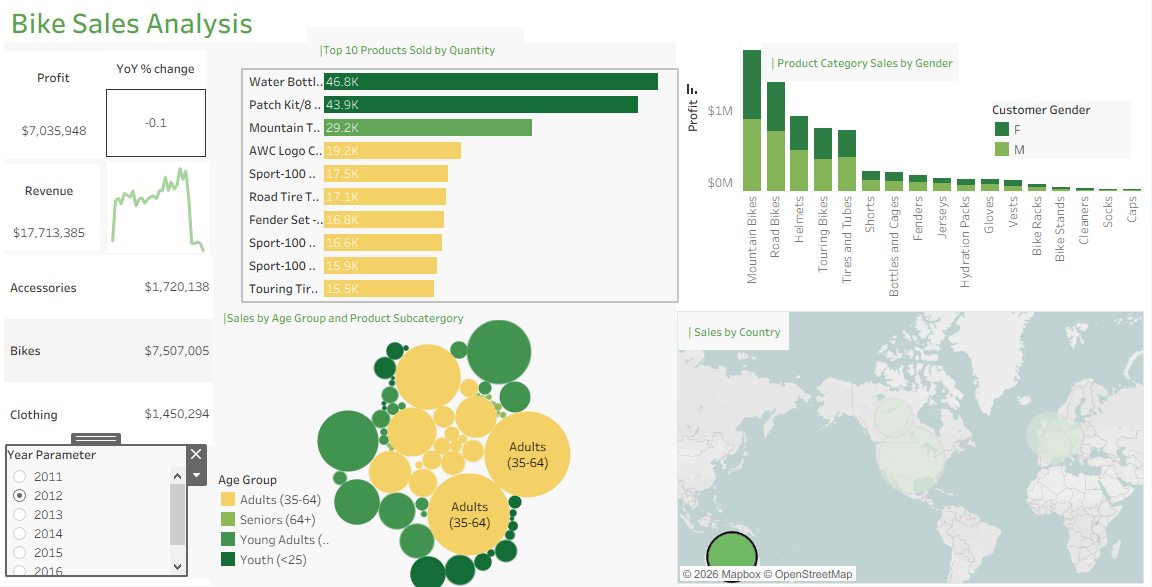

The page's visual inventory and layout, read from the dashboard file:
{"tool":"tableau","page":{"name":"Sales Dashboard","canvas":[1000,1000],"units":"permille","ordinal":0},"visuals":[{"type":"title","box":[6.8,13.5,986.5,67.6]},{"type":"text","box":[269,55.7,188,74.3]},{"type":"worksheet","title":"Sub Catergory Bar Chart","mark":"Automatic","rows":["Profit"],"cols":["Sub_Category"],"box":[589.4,82.8,405.6,452.7]},{"type":"text","box":[662.7,82.8,171.2,64.2]},{"type":"worksheet","title":"YoY % change","mark":"Automatic","cols":["Calculation_0370315922681864"],"box":[93.6,94.6,89.4,182.4]},{"type":"worksheet","title":"Profit Card","mark":"Automatic","cols":["Calculation_0370315913228289"],"box":[5.1,96.3,89.4,182.4]},{"type":"worksheet","title":"Top 10 products","mark":"Bar","rows":["Product"],"box":[214.2,128.4,375.2,390.2]},{"type":"legend","title":"Sub Catergory Bar Chart","param":"[federated.0qvkxsk0t6w82s10mxbsq1fiwlk5].[none:Customer_Gender:nk]","box":[862.6,180.7,120.6,98]},{"type":"worksheet","title":"Revenue line chart","mark":"Automatic","rows":["Revenue"],"cols":["Date"],"box":[95.3,283.8,89.4,153.7]},{"type":"worksheet","title":"Revenue card","mark":"Automatic","cols":["Calculation_0370315970215945"],"box":[1.7,287.2,88.6,145.3]},{"type":"worksheet","title":"Cost cards","mark":"Automatic","rows":["Product_Category"],"box":[6.8,440.9,181.3,322.6]},{"type":"text","box":[188,513.5,220.9,64.2]},{"type":"worksheet","title":"Map","mark":"Automatic","box":[589.4,535.5,404.7,461.2]},{"type":"text","box":[590.2,537.2,96.1,64.2]},{"type":"parameter","param":"[Parameters].[Parameter 1]","box":[9.3,763.5,155.1,217.9]}]}

Visuals, with their boxes on the dashboard's canvas, which has no fixed pixel size, in thousandths of its width and height (x1, y1, x2, y2). These are canvas units, not pixel positions in the 1152x587 screenshot, which may show the page scaled, cropped or inside an application window:
title: rect(7, 14, 993, 81)
text: rect(269, 56, 457, 130)
"Sub Catergory Bar Chart" worksheet: rect(589, 83, 995, 536)
text: rect(663, 83, 834, 147)
"YoY % change" worksheet: rect(94, 95, 183, 277)
"Profit Card" worksheet: rect(5, 96, 94, 279)
"Top 10 products" worksheet (Bar marks): rect(214, 128, 589, 519)
"Sub Catergory Bar Chart" legend: rect(863, 181, 983, 279)
"Revenue line chart" worksheet: rect(95, 284, 185, 438)
"Revenue card" worksheet: rect(2, 287, 90, 432)
"Cost cards" worksheet: rect(7, 441, 188, 764)
text: rect(188, 514, 409, 578)
"Map" worksheet: rect(589, 536, 994, 997)
text: rect(590, 537, 686, 601)
parameter: rect(9, 764, 164, 981)
